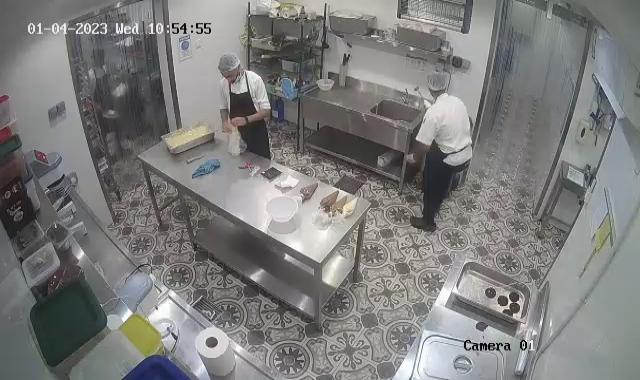hairnet: (218, 52, 242, 78), (424, 71, 446, 93)
